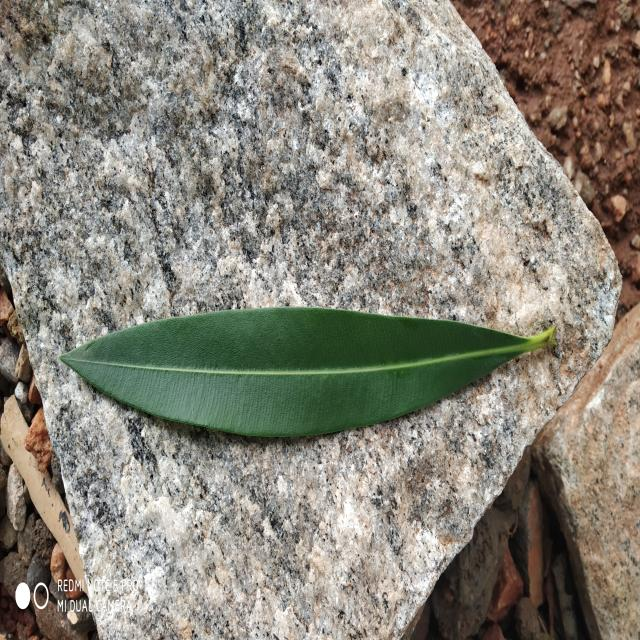ganigale: (61, 307, 556, 438)
